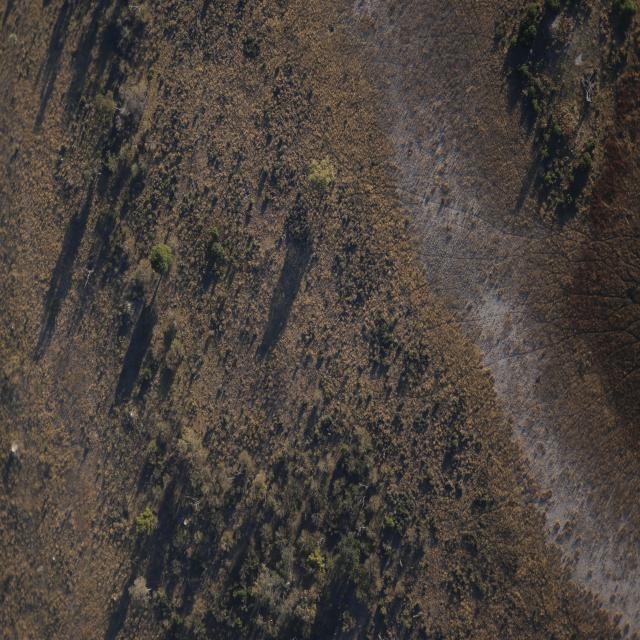elephant: (382, 451, 386, 460), (399, 559, 403, 567), (413, 614, 419, 619), (417, 600, 421, 606), (402, 602, 407, 606), (410, 566, 414, 570)
